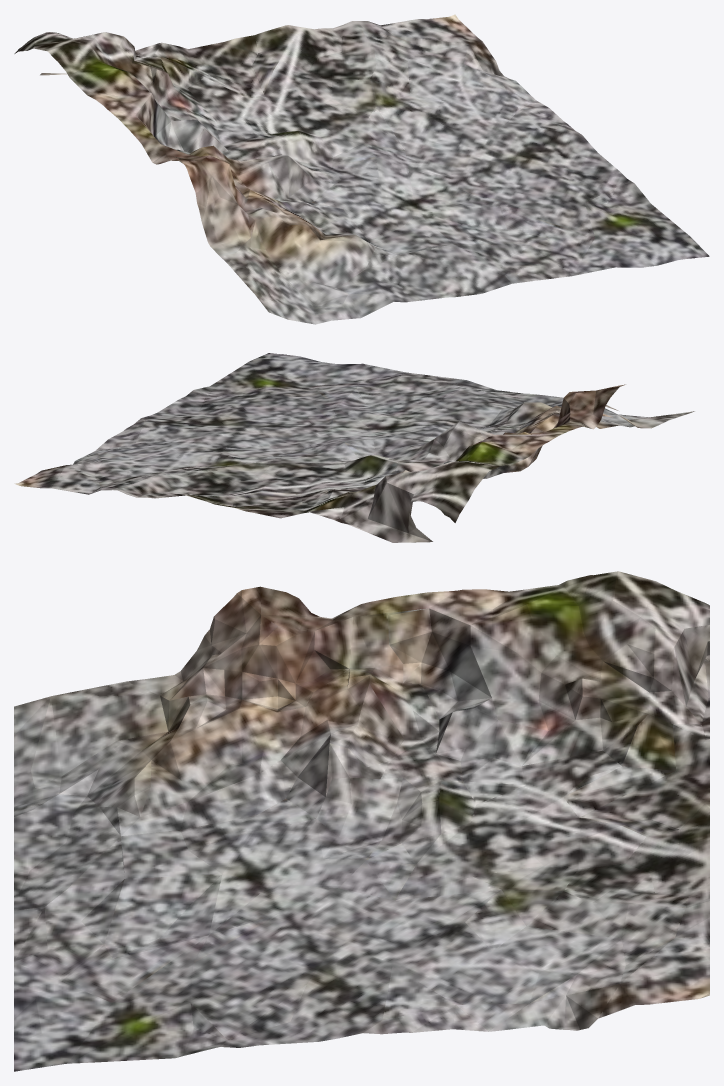
The picture shows the model from 3 angles, top to bottom: view 1: azimuth 30°, elevation 25°; view 2: azimuth 150°, elevation 25°; view 3: azimuth 270°, elevation 25°; orthographic projection. The views are drawn at different scales.
Bounding box in the file's own units: 1.67 × 0.5588 × 1.67.
3 materials, 3 textured.
